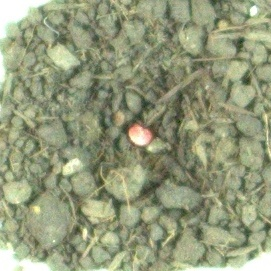pepper seed: (46, 46, 203, 195)
